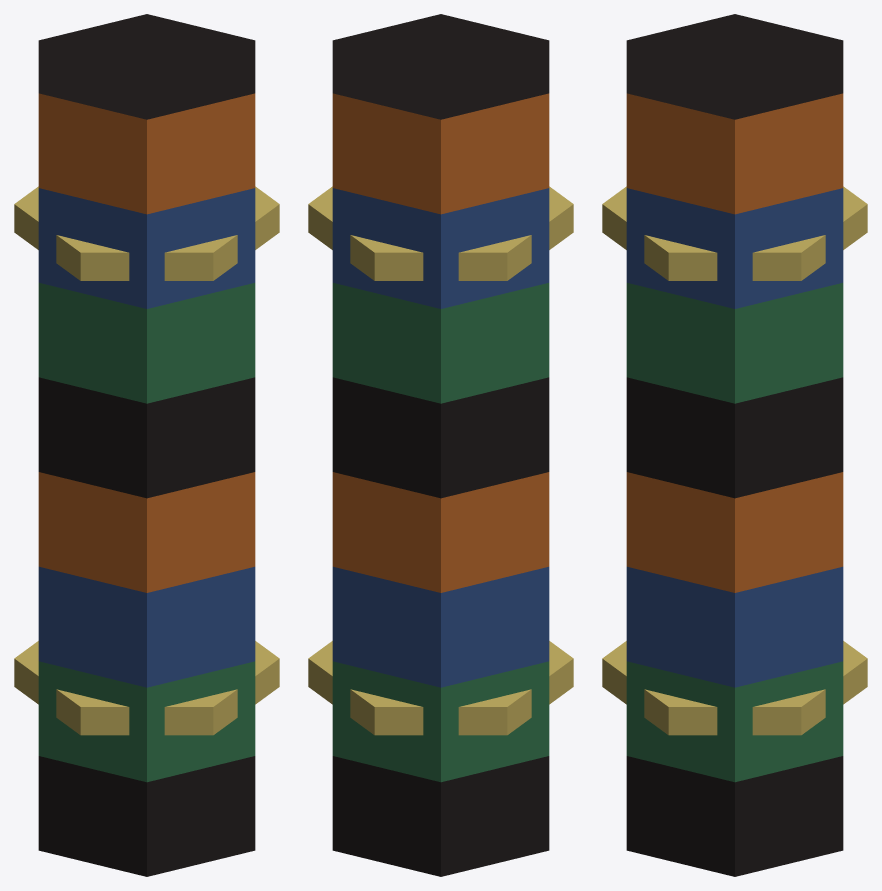
The model's file is kente-throw-roll-42.glb.
3 views of the same model, side by side, from view 1: azimuth 30°, elevation 25°; view 2: azimuth 150°, elevation 25°; view 3: azimuth 270°, elevation 25° (orthographic).
Parts seen in each view (by area): view 1: kente_throw_roll_42; view 2: kente_throw_roll_42; view 3: kente_throw_roll_42.
Boxes of the visible parts, x1,y1,x2,y2 form: kente_throw_roll_42: (14, 14, 279, 876); kente_throw_roll_42: (308, 14, 573, 876); kente_throw_roll_42: (602, 14, 867, 876).
Bounding box in the file's own units: 0.2398 × 0.8005 × 0.2543.
